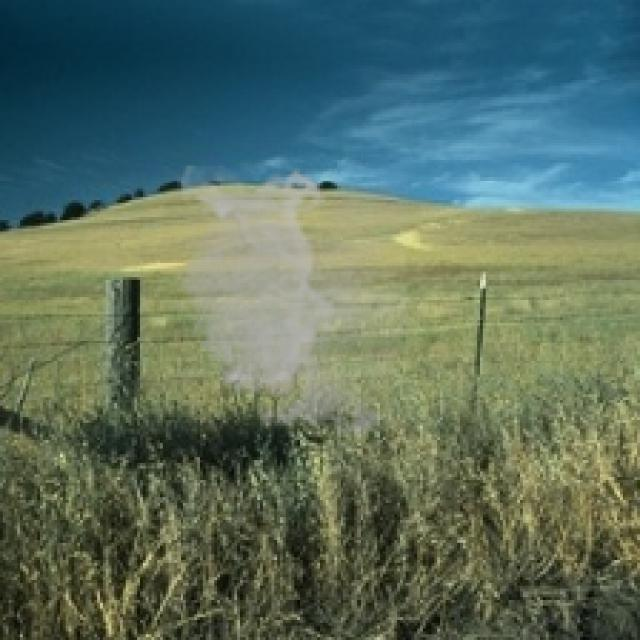smoke: (165, 166, 408, 446)
